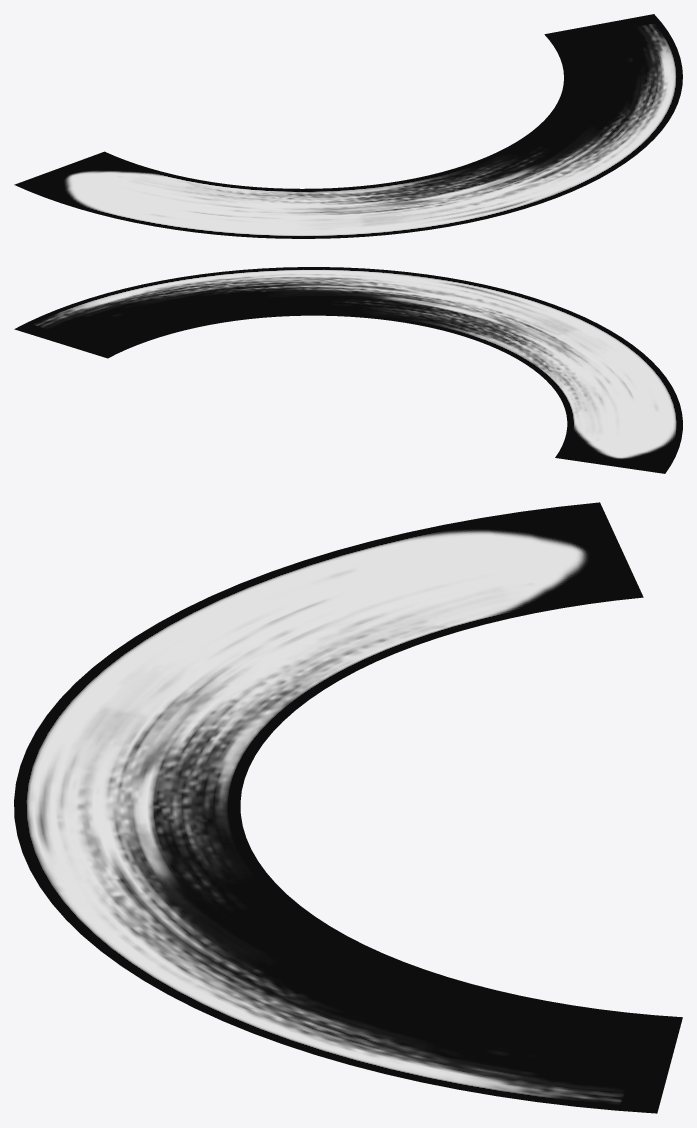
Rendered from SwordTrail01.fbx.
The picture shows the model from 3 angles, top to bottom: view 1: azimuth 30°, elevation 25°; view 2: azimuth 150°, elevation 25°; view 3: azimuth 270°, elevation 25°; orthographic projection. The views are drawn at different scales.
Parts seen in each view (by area): view 1: pPlane2; view 2: pPlane2; view 3: pPlane2.
Part boxes in pixels (x1,y1,x2,y2): pPlane2: [14, 14, 682, 238]; pPlane2: [14, 267, 682, 473]; pPlane2: [14, 502, 682, 1113].
Size of the model in its own units: 77.19 by 2.68e-15 by 35.71.
